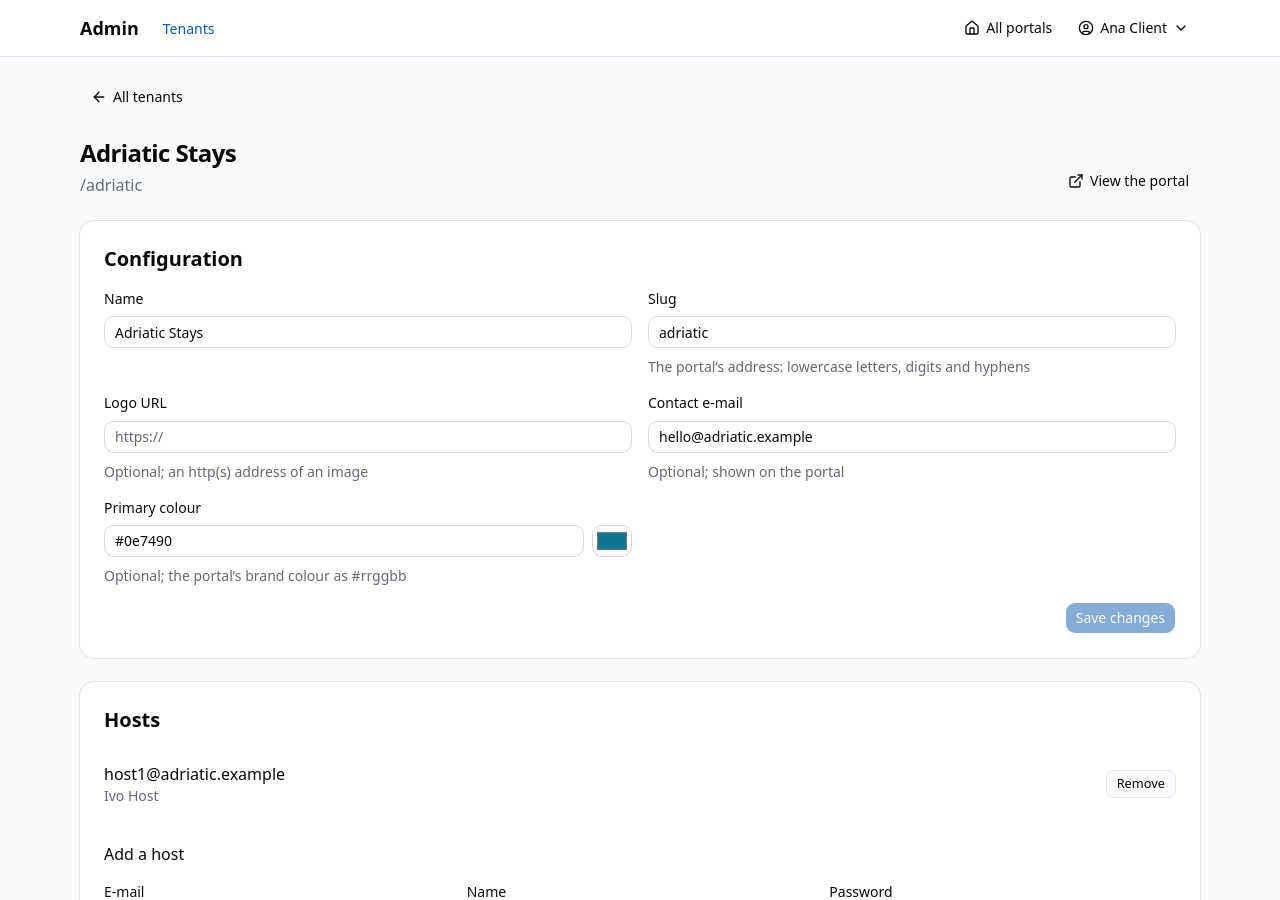
AdminTenantPage — configuration › sends nothing while a field breaks its rule
Replace the text in the field labelled "Slug" with "admin" at (912, 332), box [648,316,1176,348]
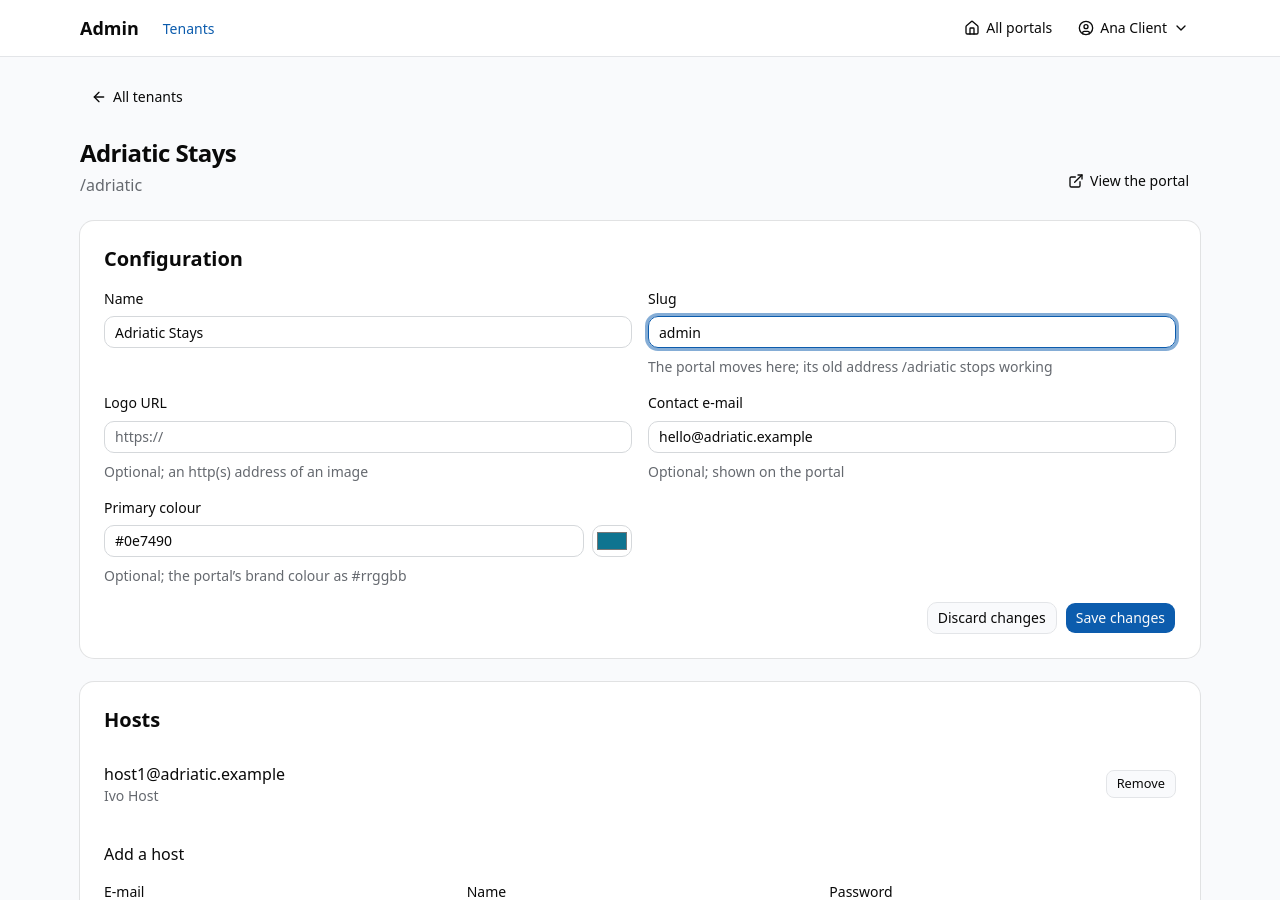
Replace the text in the field labelled "Primary colour" with "teal" at (344, 541), box [104,525,584,557]
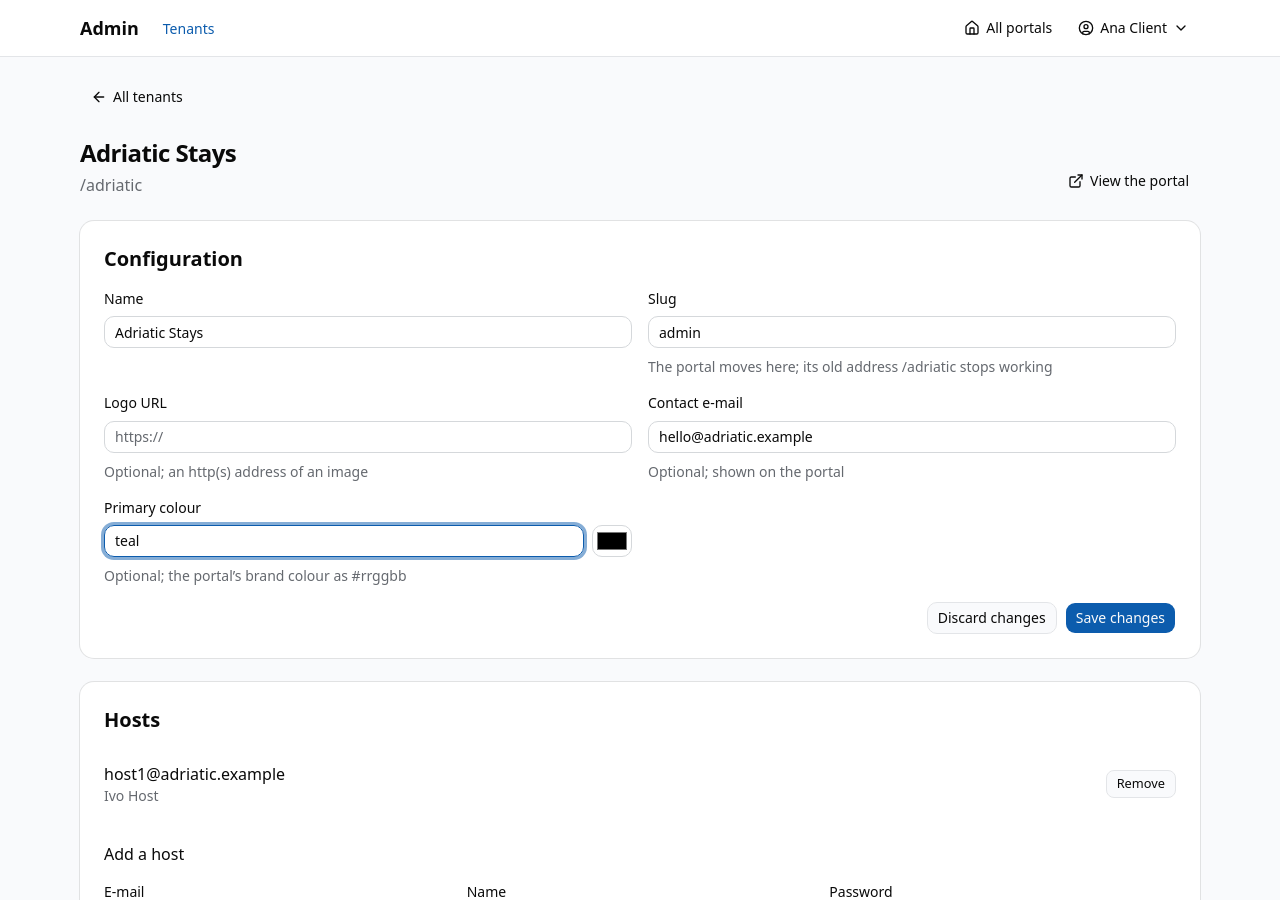
Type "javascript:alert(1)" into the field labelled "Logo URL" at (368, 436), box [104,420,632,452]
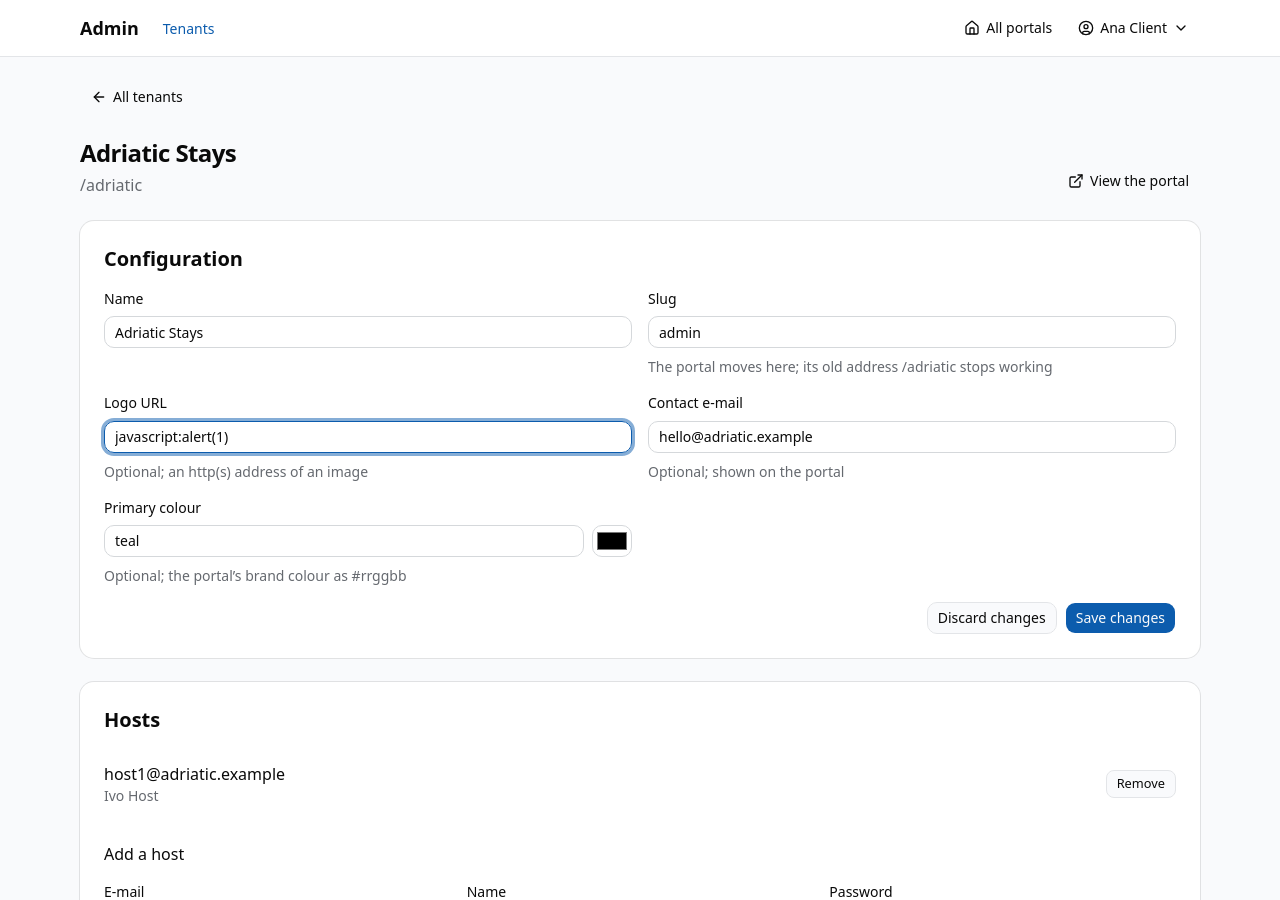
Click the button "Save changes" at (1120, 618), box [1065,602,1176,634]
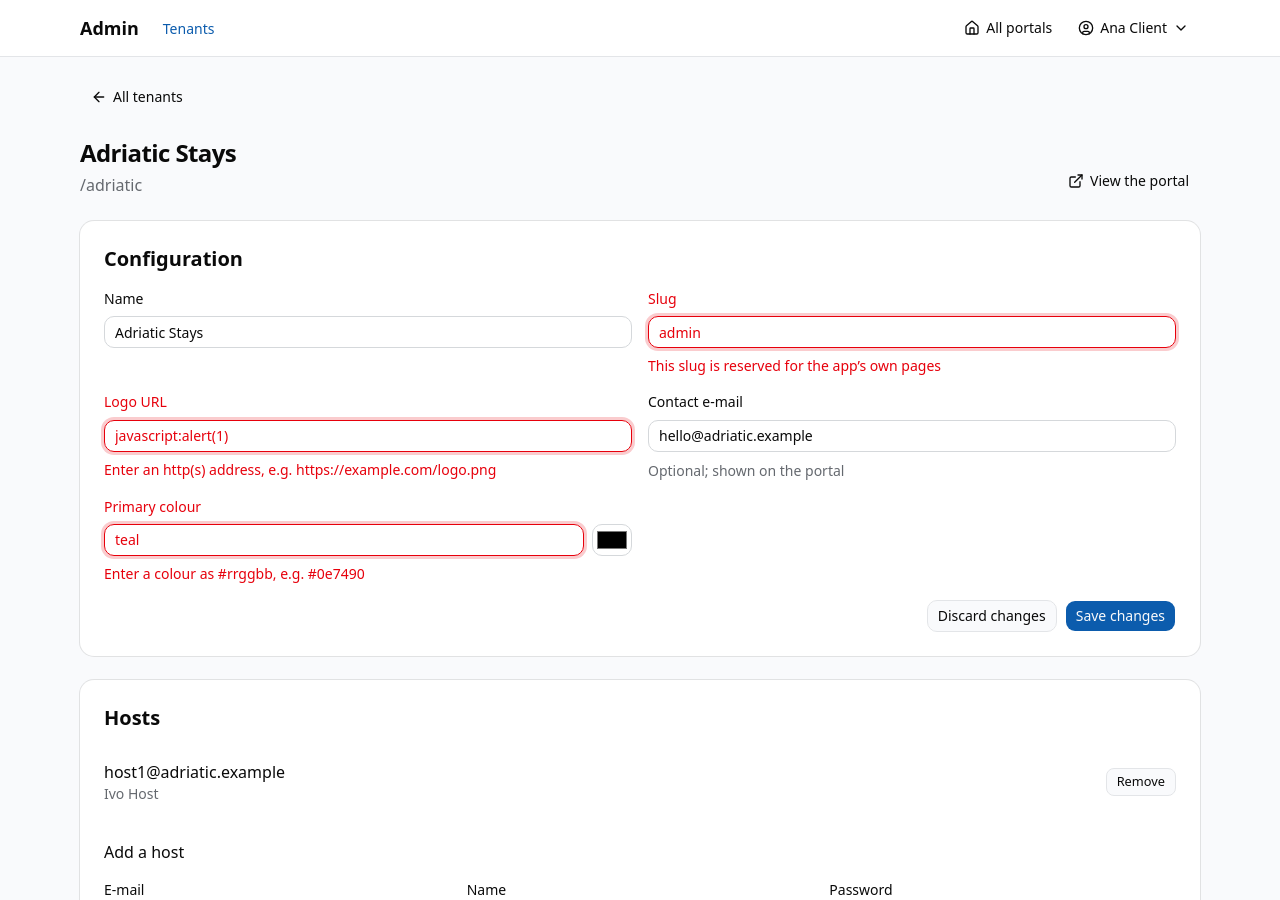
expect the text "This slug is reserved for the app’s own pages" is shown: met, box [648,356,941,375]
expect the text "Enter a colour as #rrggbb, e.g. #0e7490" is shown: met, box [104,564,365,583]
expect the text "Enter an http(s) address, e.g. https://example.com/logo.png" is shown: met, box [104,460,496,478]
